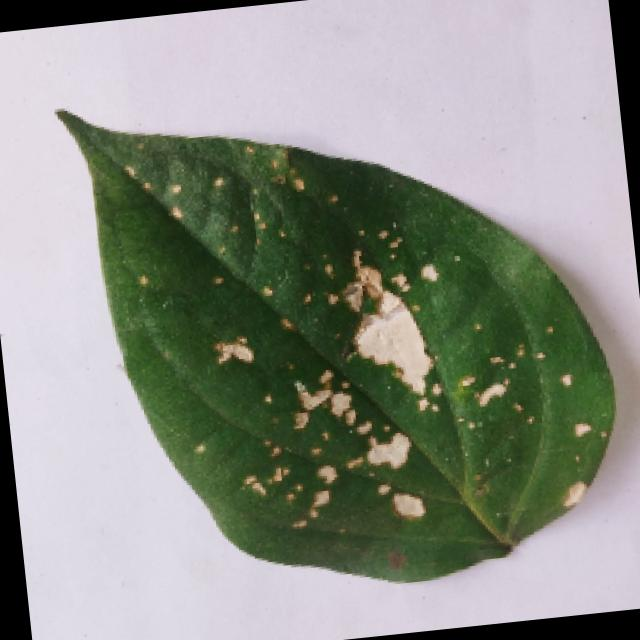pollu-disease: (33, 36, 640, 611)
